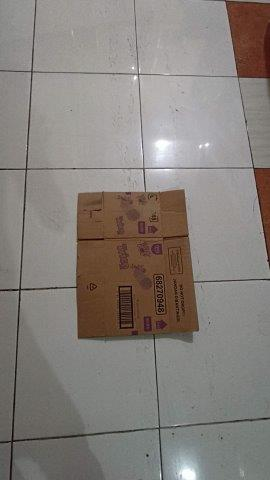kardus: (78, 191, 198, 338)
